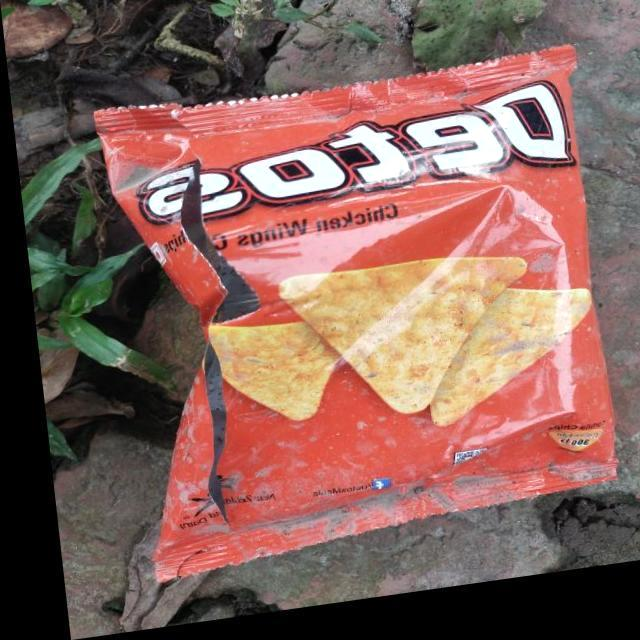packet: (182, 126, 568, 509)
